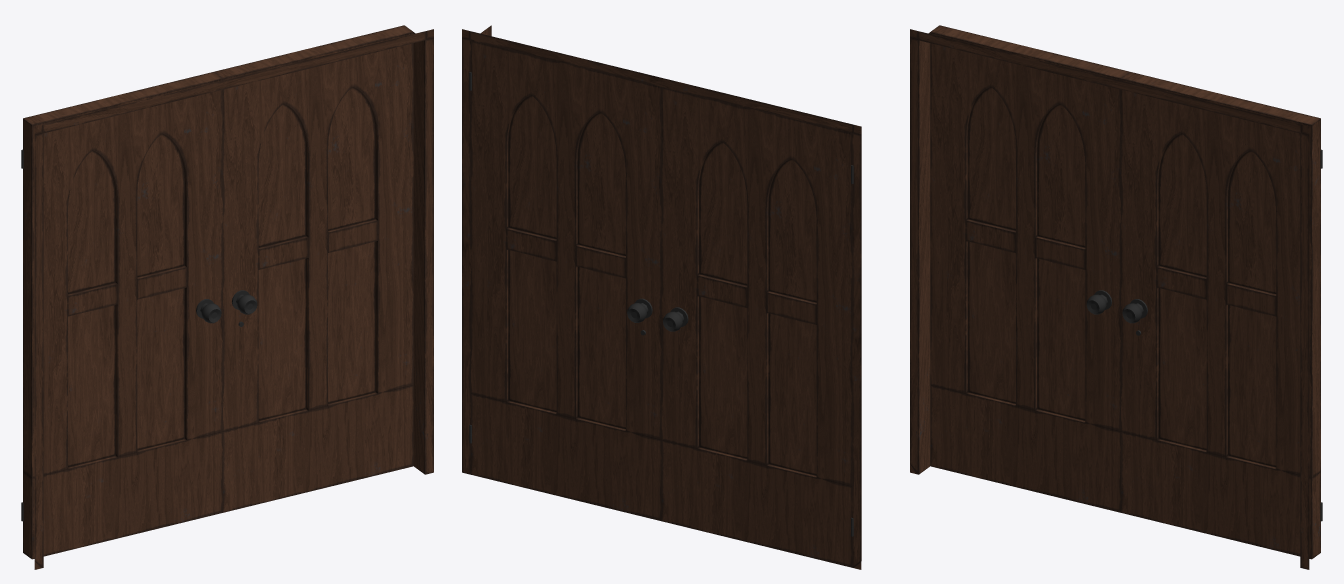
The model's file is Door_B_Frame.fbx.
3 views of the same model, side by side, from view 1: azimuth 30°, elevation 25°; view 2: azimuth 150°, elevation 25°; view 3: azimuth 330°, elevation 25° (orthographic).
Visible parts, largest first — view 1: Door_B_B, Door_B_A, Door_B_Frame; view 2: Door_B_B, Door_B_A, Door_B_Frame; view 3: Door_B_A, Door_B_B, Door_B_Frame.
Part boxes in pixels (x1=…): Door_B_B: x1=21, y1=72, x2=222, y2=559; Door_B_A: x1=214, y1=25, x2=413, y2=512; Door_B_Frame: x1=34, y1=29, x2=433, y2=569; Door_B_B: x1=661, y1=87, x2=861, y2=567; Door_B_A: x1=469, y1=40, x2=661, y2=521; Door_B_Frame: x1=462, y1=25, x2=861, y2=569; Door_B_A: x1=1121, y1=72, x2=1322, y2=559; Door_B_B: x1=930, y1=25, x2=1129, y2=512; Door_B_Frame: x1=910, y1=29, x2=1309, y2=569.
Size of the model in its own units: 2.15 by 0.2868 by 2.28.
